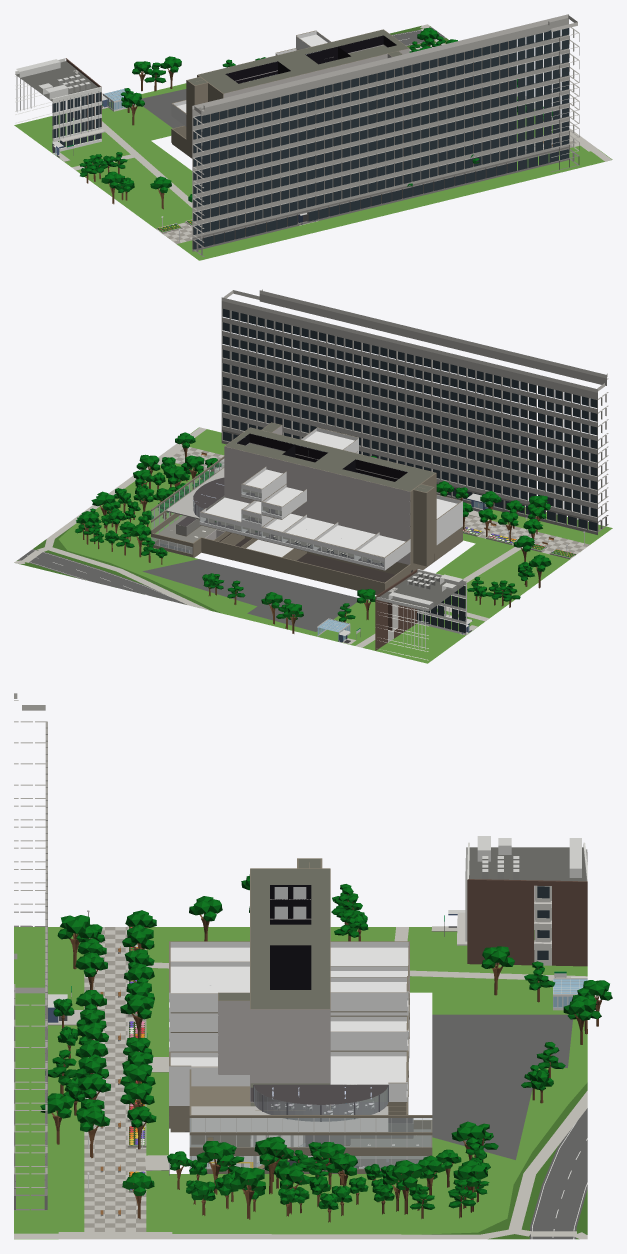
Rendered from lecture.fbx.
The picture shows the model from 3 angles, top to bottom: view 1: azimuth 30°, elevation 25°; view 2: azimuth 150°, elevation 25°; view 3: azimuth 270°, elevation 25°; orthographic projection. The views are drawn at different scales.
Parts seen in each view (by area): view 1: ext_lecture, ext_lecture_trees, wall_lecture_corr7f_0, wall_lecture_corr7f_n1, wall_lecture_corr7f_s1, wall_lecture_corr7f_n4, wall_lecture_corr7f_c2, wall_lecture_r610, wall_lecture_corr7f_n3, wall_lecture_corr7f_s4, wall_lecture, wall_lecture_corr7f_s2; view 2: ext_lecture, ext_lecture_trees, wall_lecture, floor_lecture, wall_lecture_corr7f_0, wall_lecture_r307, wall_lecture_r306, wall_lecture_r311, wall_lecture_r602, wall_lecture_corr7f_n1, wall_lecture_corr7f_s1, wall_lecture_r308 (+12 smaller); view 3: ext_lecture, ext_lecture_trees, wall_lecture, floor_lecture, wall_lecture_r602, wall_lecture_corr7f_0, wall_lecture_corr4f_c5, wall_lecture_corr5f_c5, wall_lecture_corr6f_c5, wall_lecture_r311, wall_lecture_corr7f_c2, wall_lecture_r410 (+15 smaller).
Part boxes in pixels (<box>): ext_lecture: <box>14,14,612,260</box>; ext_lecture_trees: <box>79,28,552,209</box>; wall_lecture_corr7f_0: <box>186,69,244,99</box>; wall_lecture_corr7f_n1: <box>219,57,275,80</box>; wall_lecture_corr7f_s1: <box>239,71,295,92</box>; wall_lecture_corr7f_n4: <box>327,34,368,56</box>; wall_lecture_corr7f_c2: <box>278,54,317,73</box>; wall_lecture_r610: <box>296,30,328,49</box>; wall_lecture_corr7f_n3: <box>300,43,333,61</box>; wall_lecture_corr7f_s4: <box>347,49,387,66</box>; wall_lecture: <box>171,125,191,157</box>; wall_lecture_corr7f_s2: <box>289,64,325,80</box>; ext_lecture: <box>14,289,612,663</box>; ext_lecture_trees: <box>75,432,551,633</box>; wall_lecture: <box>151,456,462,595</box>; floor_lecture: <box>155,468,462,590</box>; wall_lecture_corr7f_0: <box>388,467,436,501</box>; wall_lecture_r307: <box>312,531,363,562</box>; wall_lecture_r306: <box>354,541,398,570</box>; wall_lecture_r311: <box>199,506,241,534</box>; wall_lecture_r602: <box>303,427,358,452</box>; wall_lecture_corr7f_n1: <box>338,469,394,495</box>; wall_lecture_corr7f_s1: <box>357,455,414,478</box>; wall_lecture_r308: <box>281,523,322,552</box>; ext_lecture: <box>14,693,587,1239</box>; ext_lecture_trees: <box>40,874,612,1222</box>; wall_lecture: <box>169,981,432,1173</box>; floor_lecture: <box>169,1101,422,1173</box>; wall_lecture_r602: <box>169,961,213,1012</box>; wall_lecture_corr7f_0: <box>250,858,330,899</box>; wall_lecture_corr4f_c5: <box>250,1063,330,1082</box>; wall_lecture_corr5f_c5: <box>250,1044,330,1062</box>; wall_lecture_corr6f_c5: <box>250,1024,330,1042</box>; wall_lecture_r311: <box>368,1050,408,1101</box>; wall_lecture_corr7f_c2: <box>270,924,311,959</box>; wall_lecture_r410: <box>368,1015,408,1050</box>.
Bounding box in the file's own units: 148 × 51.87 × 116.
